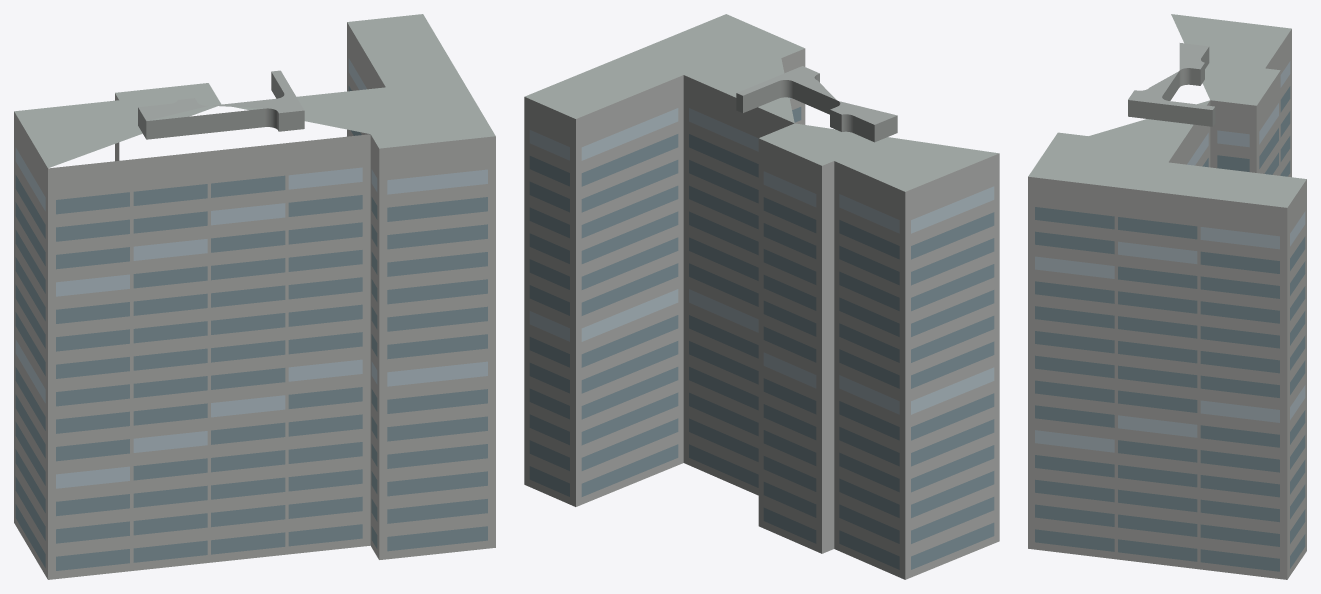
File: fallback-olympic-park-foreon-404.glb
3 renders of one model, left to right at view 1: azimuth 30°, elevation 25°; view 2: azimuth 150°, elevation 25°; view 3: azimuth 270°, elevation 25°, orthographic. The views are drawn at different scales.
Visible parts, largest first — view 1: fallback-olympic-park-foreon-404; view 2: fallback-olympic-park-foreon-404; view 3: fallback-olympic-park-foreon-404.
Part boxes in pixels (box(x1,y1,x2,y2)): fallback-olympic-park-foreon-404: box(14, 14, 495, 579); fallback-olympic-park-foreon-404: box(524, 14, 999, 579); fallback-olympic-park-foreon-404: box(1028, 14, 1306, 579).
Bounding box in the file's own units: 51.14 × 47.81 × 31.07.
